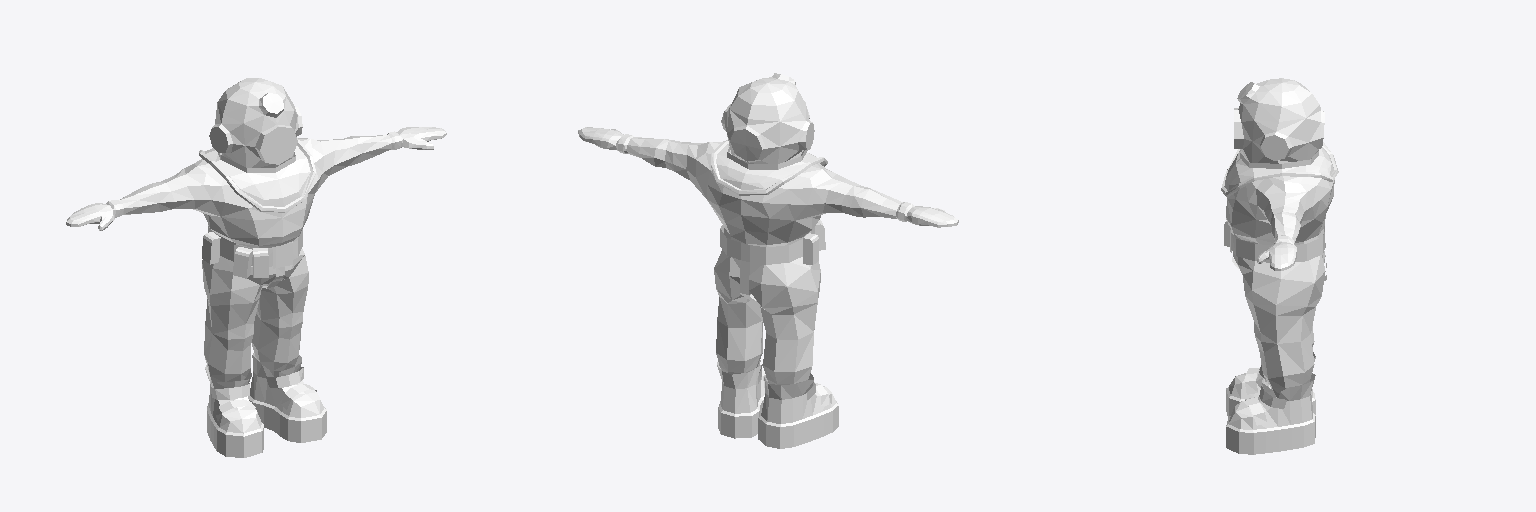
Rendered from buso.obj.
3 renders of one model, left to right at view 1: azimuth 30°, elevation 25°; view 2: azimuth 150°, elevation 25°; view 3: azimuth 270°, elevation 25°, orthographic.
Parts seen in each view (by area): view 1: Buso_Mesh.004; view 2: Buso_Mesh.004; view 3: Buso_Mesh.004.
Boxes of the visible parts, x1=… form: Buso_Mesh.004: x1=66, y1=78, x2=446, y2=457; Buso_Mesh.004: x1=578, y1=73, x2=958, y2=448; Buso_Mesh.004: x1=1221, y1=78, x2=1338, y2=454.
Size of the model in its own units: 1.77 by 1.55 by 0.4763.